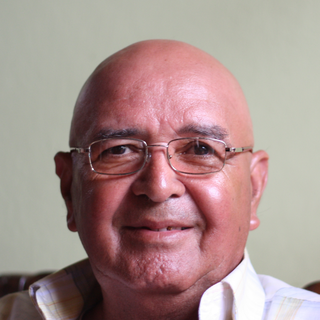eye: (179, 140, 224, 164), (100, 140, 144, 163)
